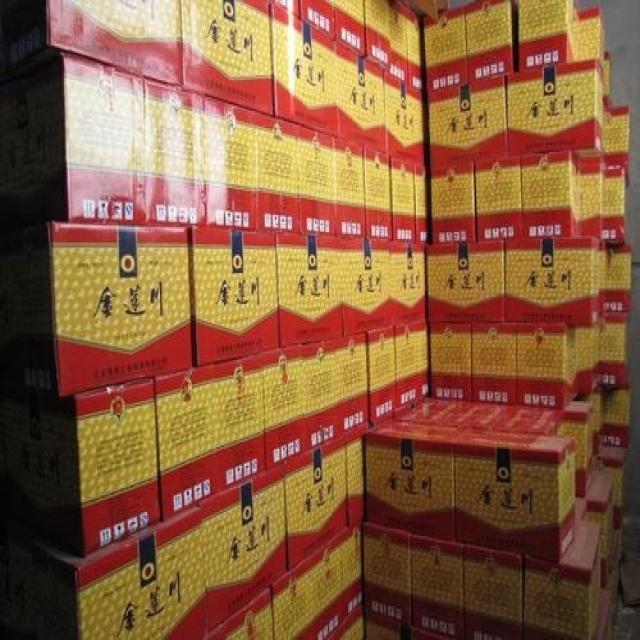box: (0, 224, 192, 398), (0, 381, 160, 556), (4, 507, 205, 640), (0, 48, 145, 229), (456, 428, 576, 561), (0, 2, 182, 82), (200, 468, 287, 633), (191, 225, 280, 365), (367, 418, 466, 543), (526, 500, 603, 638), (182, 2, 274, 114), (159, 365, 218, 521), (143, 77, 205, 225), (273, 2, 339, 135), (507, 63, 604, 152), (506, 239, 605, 326), (284, 437, 348, 568), (276, 236, 343, 346), (215, 357, 266, 490), (428, 77, 504, 166), (206, 96, 255, 230), (428, 242, 506, 321), (337, 41, 388, 152), (261, 346, 306, 471), (462, 544, 521, 638), (517, 323, 581, 408), (253, 113, 298, 232), (412, 534, 463, 638), (362, 526, 411, 625), (521, 152, 576, 239), (340, 241, 390, 336), (421, 5, 470, 94), (301, 338, 339, 452), (298, 126, 337, 236), (517, 2, 579, 70), (384, 70, 428, 162), (476, 159, 524, 242), (466, 2, 515, 82), (431, 160, 476, 244), (472, 324, 517, 404), (333, 138, 366, 241), (308, 538, 342, 637), (588, 468, 616, 585), (337, 333, 369, 435), (388, 241, 426, 326), (271, 560, 311, 640), (430, 323, 472, 399), (207, 591, 274, 638), (305, 2, 365, 53), (563, 401, 594, 497), (365, 145, 393, 242), (340, 524, 365, 620), (389, 155, 416, 242), (577, 155, 605, 236), (346, 427, 369, 524), (370, 333, 394, 425), (602, 447, 626, 527), (603, 166, 628, 242), (603, 312, 627, 391), (573, 7, 608, 61), (366, 2, 393, 70), (397, 321, 417, 408), (406, 14, 428, 92), (607, 106, 632, 172), (605, 384, 630, 449), (607, 242, 628, 319), (580, 326, 603, 396), (390, 5, 408, 85), (413, 160, 429, 242), (366, 611, 408, 640), (328, 606, 365, 638), (527, 410, 566, 437), (419, 317, 431, 399)
